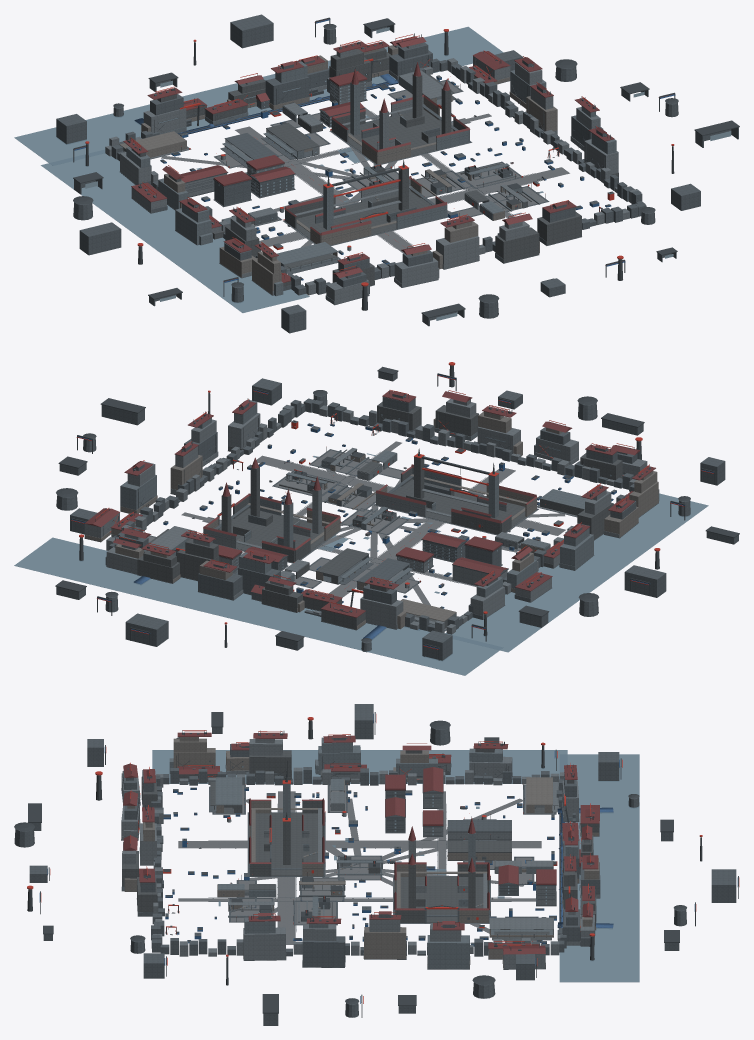
Rendered from kouwan-lod0.glb.
3 renders of one model, top to bottom at view 1: azimuth 30°, elevation 25°; view 2: azimuth 150°, elevation 25°; view 3: azimuth 270°, elevation 25°, orthographic. The views are drawn at different scales.
Visible parts, largest first — view 1: HB_kouwan_LOD0_wall_alt, HB_kouwan_LOD0_water, HB_kouwan_LOD0_wall, HB_kouwan_LOD0_trim, HB_kouwan_LOD0_roof, HB_kouwan_LOD0_road, HB_kouwan_LOD0_wall_weathered, HB_kouwan_LOD0_wall_cool, HB_kouwan_LOD0_wall_warm, HB_kouwan_LOD0_LANDMARK_1_wall_weathered, HB_kouwan_LOD0_LANDMARK_0_wall_weathered, HB_kouwan_LOD0_accent (+11 smaller); view 2: HB_kouwan_LOD0_wall_alt, HB_kouwan_LOD0_water, HB_kouwan_LOD0_wall, HB_kouwan_LOD0_wall_weathered, HB_kouwan_LOD0_roof, HB_kouwan_LOD0_road, HB_kouwan_LOD0_trim, HB_kouwan_LOD0_wall_cool, HB_kouwan_LOD0_wall_warm, HB_kouwan_LOD0_LANDMARK_1_wall_weathered, HB_kouwan_LOD0_LANDMARK_0_wall_weathered, HB_kouwan_LOD0_accent (+9 smaller); view 3: HB_kouwan_LOD0_wall_alt, HB_kouwan_LOD0_water, HB_kouwan_LOD0_wall, HB_kouwan_LOD0_roof, HB_kouwan_LOD0_road, HB_kouwan_LOD0_trim, HB_kouwan_LOD0_wall_cool, HB_kouwan_LOD0_wall_warm, HB_kouwan_LOD0_wall_weathered, HB_kouwan_LOD0_LANDMARK_0_wall_weathered, HB_kouwan_LOD0_LANDMARK_1_wall_weathered, HB_kouwan_LOD0_obstacle (+6 smaller).
Part boxes in pixels (box(x1,y1,x2,y2)): HB_kouwan_LOD0_wall_alt: box(56, 14, 738, 333); HB_kouwan_LOD0_water: box(14, 26, 543, 312); HB_kouwan_LOD0_wall: box(105, 43, 641, 304); HB_kouwan_LOD0_trim: box(73, 17, 739, 318); HB_kouwan_LOD0_roof: box(123, 36, 614, 282); HB_kouwan_LOD0_road: box(150, 81, 569, 260); HB_kouwan_LOD0_wall_weathered: box(123, 47, 618, 286); HB_kouwan_LOD0_wall_cool: box(126, 45, 616, 304); HB_kouwan_LOD0_wall_warm: box(119, 45, 557, 294); HB_kouwan_LOD0_LANDMARK_1_wall_weathered: box(331, 74, 469, 156); HB_kouwan_LOD0_LANDMARK_0_wall_weathered: box(285, 167, 447, 238); HB_kouwan_LOD0_accent: box(75, 19, 674, 286); HB_kouwan_LOD0_wall_alt: box(56, 371, 738, 660); HB_kouwan_LOD0_water: box(14, 453, 708, 675); HB_kouwan_LOD0_wall: box(84, 399, 658, 634); HB_kouwan_LOD0_wall_weathered: box(137, 401, 622, 629); HB_kouwan_LOD0_roof: box(85, 390, 655, 617); HB_kouwan_LOD0_road: box(147, 422, 576, 631); HB_kouwan_LOD0_trim: box(55, 365, 739, 660); HB_kouwan_LOD0_wall_cool: box(120, 400, 659, 629); HB_kouwan_LOD0_wall_warm: box(85, 411, 658, 629); HB_kouwan_LOD0_LANDMARK_1_wall_weathered: box(219, 466, 324, 562); HB_kouwan_LOD0_LANDMARK_0_wall_weathered: box(391, 457, 525, 534); HB_kouwan_LOD0_accent: box(71, 362, 713, 649); HB_kouwan_LOD0_wall_alt: box(14, 704, 736, 1025); HB_kouwan_LOD0_water: box(152, 750, 639, 982); HB_kouwan_LOD0_wall: box(121, 738, 599, 969); HB_kouwan_LOD0_roof: box(123, 732, 599, 954); HB_kouwan_LOD0_road: box(170, 785, 556, 945); HB_kouwan_LOD0_trim: box(14, 712, 738, 1017); HB_kouwan_LOD0_wall_cool: box(122, 737, 578, 969); HB_kouwan_LOD0_wall_warm: box(124, 737, 599, 968); HB_kouwan_LOD0_wall_weathered: box(122, 748, 599, 959); HB_kouwan_LOD0_LANDMARK_0_wall_weathered: box(250, 801, 324, 876); HB_kouwan_LOD0_LANDMARK_1_wall_weathered: box(395, 864, 489, 922); HB_kouwan_LOD0_obstacle: box(39, 714, 737, 1003).
Size of the model in its own units: 653 by 69.28 by 654.
Materials: 14 (12 with a texture image).
